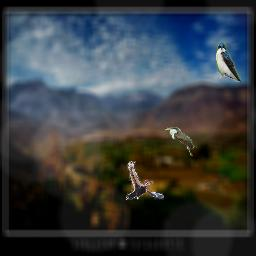Cuckoo: (164, 127, 197, 156)
Swallow: (216, 42, 241, 82)
Woodpecker: (126, 160, 164, 200)
